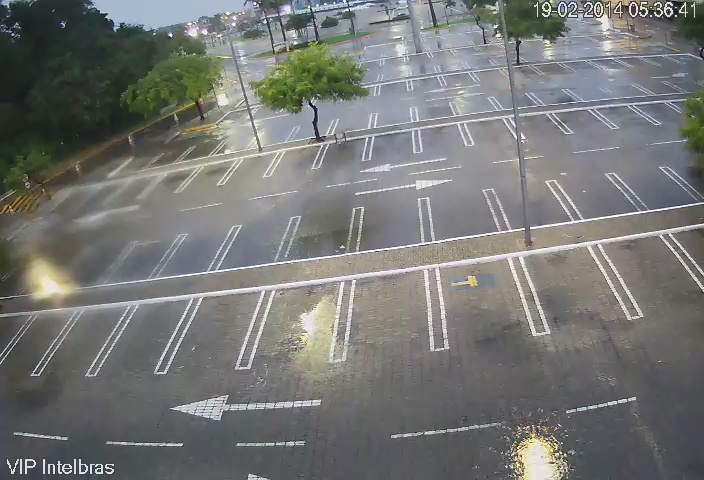lot: (421, 258, 538, 352), (340, 271, 441, 369), (514, 247, 621, 327), (589, 229, 696, 308), (260, 282, 339, 376), (178, 291, 252, 376), (115, 294, 182, 384), (356, 199, 432, 252), (548, 173, 639, 217), (54, 309, 115, 374), (488, 185, 573, 231), (420, 197, 506, 239), (616, 164, 688, 213), (288, 207, 353, 258), (11, 303, 53, 378), (227, 222, 286, 263), (549, 103, 611, 140), (506, 110, 566, 148), (170, 228, 219, 273), (116, 235, 163, 281), (590, 102, 654, 133), (626, 97, 687, 129), (366, 132, 420, 168), (317, 138, 368, 171), (412, 123, 468, 153), (459, 119, 517, 145), (187, 162, 230, 196), (230, 154, 275, 185), (118, 171, 156, 205), (273, 149, 320, 176), (156, 168, 190, 200), (291, 117, 333, 142), (412, 98, 458, 120), (568, 82, 614, 103), (370, 108, 415, 129), (116, 151, 157, 174), (333, 110, 375, 132), (534, 85, 576, 107), (491, 90, 537, 110), (91, 184, 120, 211), (455, 95, 499, 112), (156, 144, 188, 167), (254, 129, 290, 146), (219, 137, 249, 154), (189, 143, 219, 159)
